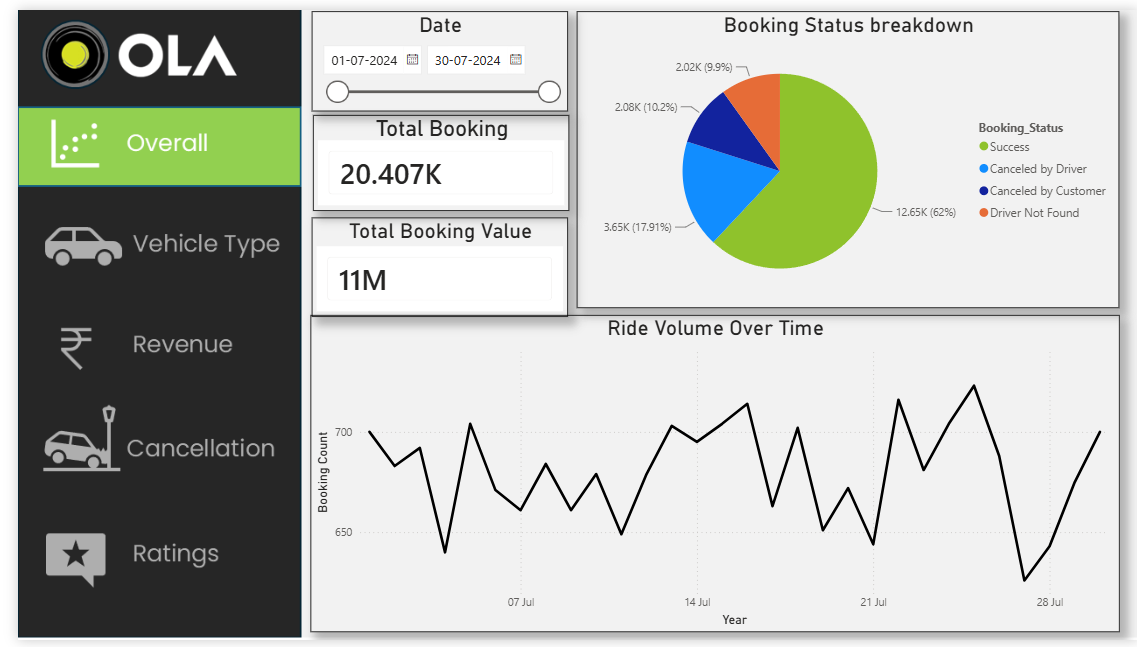

What the dashboard file says about the page in this screenshot:
{"tool":"powerbi","page":{"name":"Overall","canvas":[1280,720],"ordinal":0},"visuals":[{"type":"actionButton","box":[0,229.2,326.9,89.3],"z":0},{"type":"actionButton","box":[0,340.1,326.7,91],"z":1000},{"type":"actionButton","box":[0,452.6,326.7,91],"z":2000},{"type":"actionButton","box":[0,567.7,326.7,91],"z":3000},{"type":"lineChart","title":"Ride Volume Over Time","fields":{"Y":["CountNonNull(July.Booking_ID)"],"Category":["July.Date.Variation.Date Hierarchy.Year","July.Date.Variation.Date Hierarchy.Quarter","July.Date.Variation.Date Hierarchy.Month","July.Date.Variation.Date Hierarchy.Day"]},"box":[334.8,349.3,924.6,362.3],"z":4000},{"type":"pieChart","title":"Booking Status breakdown","fields":{"Category":["July.Booking_Status"],"Y":["CountNonNull(July.Booking_ID)"]},"box":[639.1,1.4,620.3,339.1],"z":5000},{"type":"slicer","title":"Date","fields":{"Values":["July.Date"]},"box":[335.4,1.2,293.2,114.6],"z":6000},{"type":"cardVisual","title":"Total Booking Value","fields":{"Data":["Sum(July.Booking_Value)"]},"box":[335.4,236.5,293.2,113.4],"z":7000},{"type":"cardVisual","title":"Total Booking","fields":{"Data":["CountNonNull(July.Booking_ID)"]},"box":[336.6,119.4,293.2,109.8],"z":8000}]}

Visuals, with their boxes in screenshot pixels (x1, y1, x2, y2), scaled from the page's 1280x720 canvas onto the 1137x647 screenshot:
actionButton: [0, 206, 290, 286]
actionButton: [0, 306, 290, 387]
actionButton: [0, 407, 290, 488]
actionButton: [0, 510, 290, 592]
"Ride Volume Over Time" lineChart: [297, 314, 1119, 639]
"Booking Status breakdown" pieChart: [568, 1, 1119, 306]
"Date" slicer: [298, 1, 558, 104]
"Total Booking Value" cardVisual: [298, 213, 558, 314]
"Total Booking" cardVisual: [299, 107, 559, 206]
